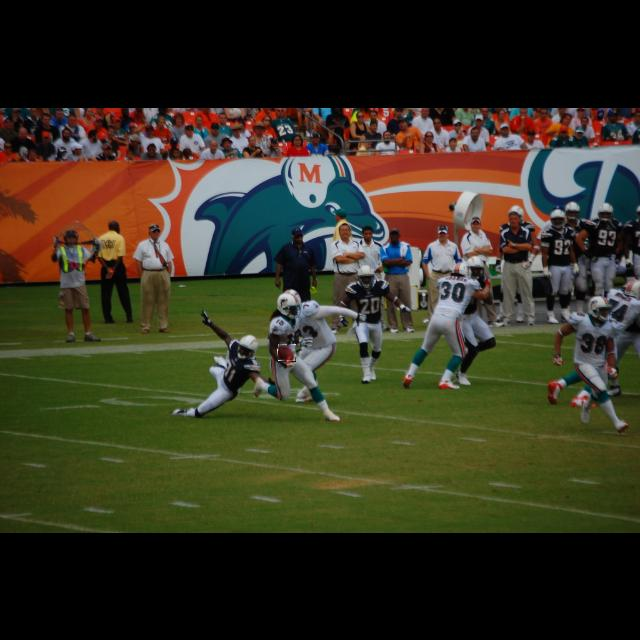Football: (278, 344, 296, 362)
